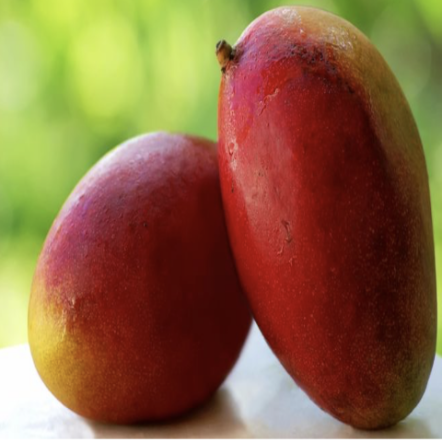mango: (190, 0, 442, 441), (5, 128, 285, 436)
